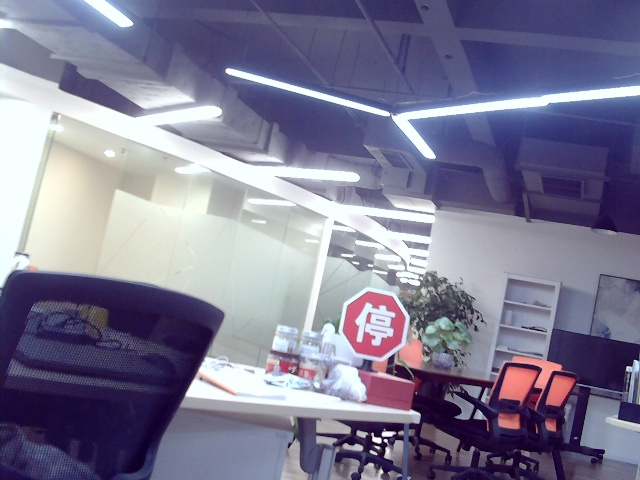stop: (356, 302, 397, 346)
